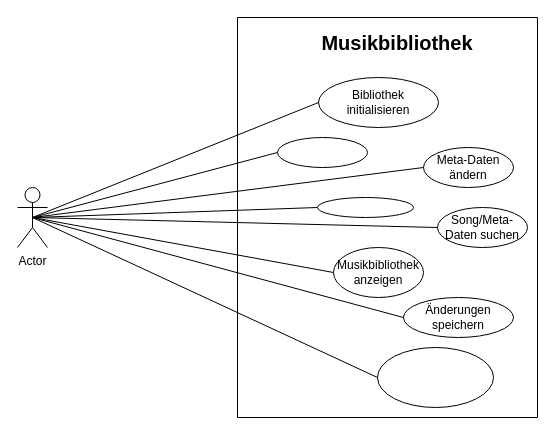
This 555x435 diagram has some shape labels left out. Each missing label, with the centre of its shape:
Daten speichern, Programm beenden: the point at 435,377
Song hinzufügen: the point at 322,152
Song löschen: the point at 365,207
